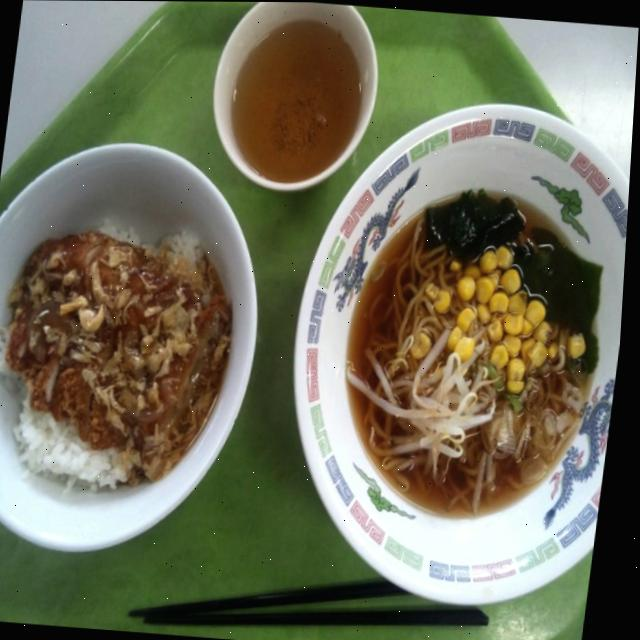面条主食: (268, 35, 638, 604)
